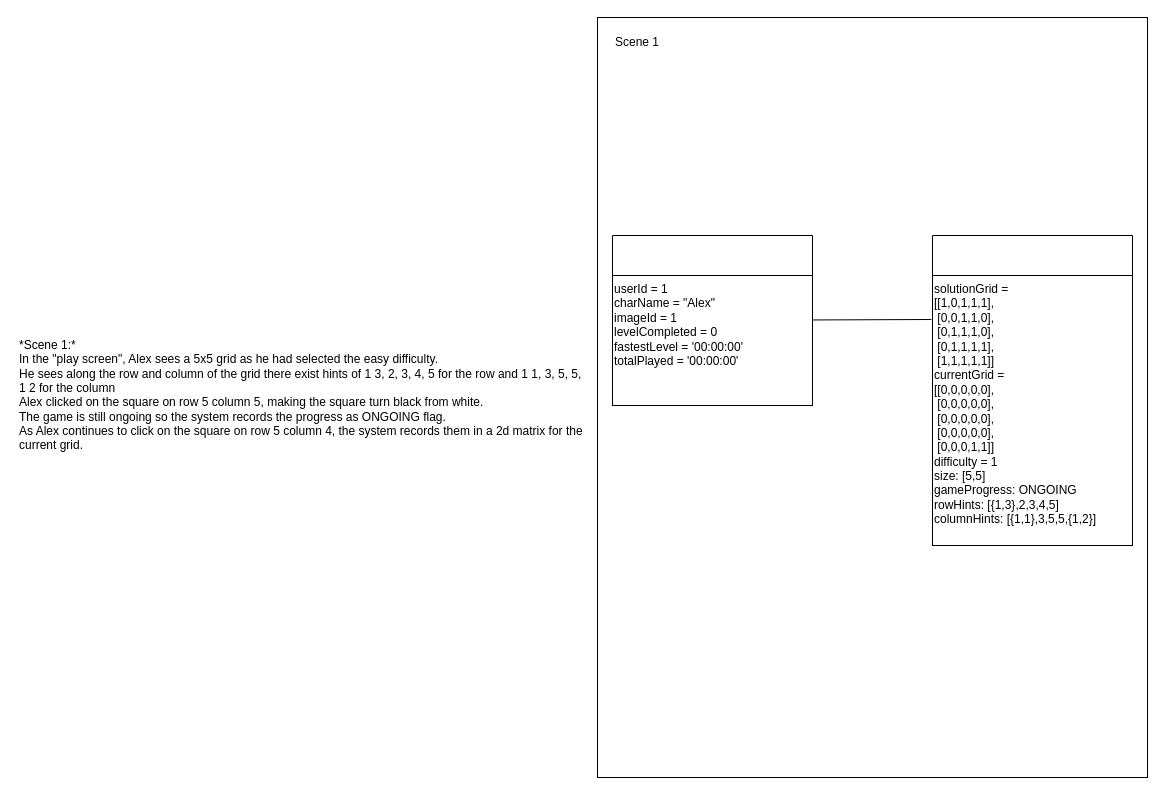
Some shapes in this 1165 by 795 pixel diagram are drawn without their labels. Here are the shapes that lost their labels. From the top down, the box of each, then its label:
(612, 234, 812, 406): Alex: User
(932, 234, 1132, 546): : PlayLevel
